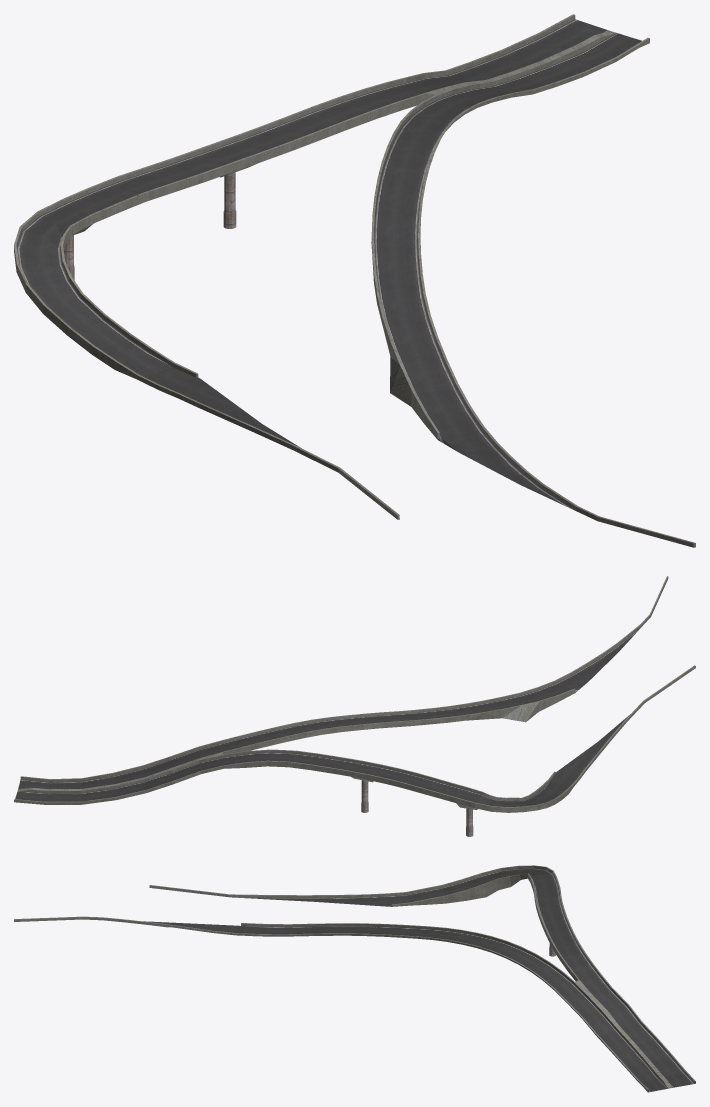
The model's file is cunte_flyover2.obj.
3 views of the same model, one above another, from view 1: azimuth 30°, elevation 25°; view 2: azimuth 150°, elevation 25°; view 3: azimuth 270°, elevation 25° (orthographic). The views are drawn at different scales.
Visible parts, largest first — view 1: cunte_Flyover2; view 2: cunte_Flyover2; view 3: cunte_Flyover2.
Boxes of the visible parts, bbox=[...] form: cunte_Flyover2: bbox=[14, 14, 695, 547]; cunte_Flyover2: bbox=[14, 576, 695, 836]; cunte_Flyover2: bbox=[14, 865, 695, 1092].
Bounding box in the file's own units: 180 × 20.15 × 256.
